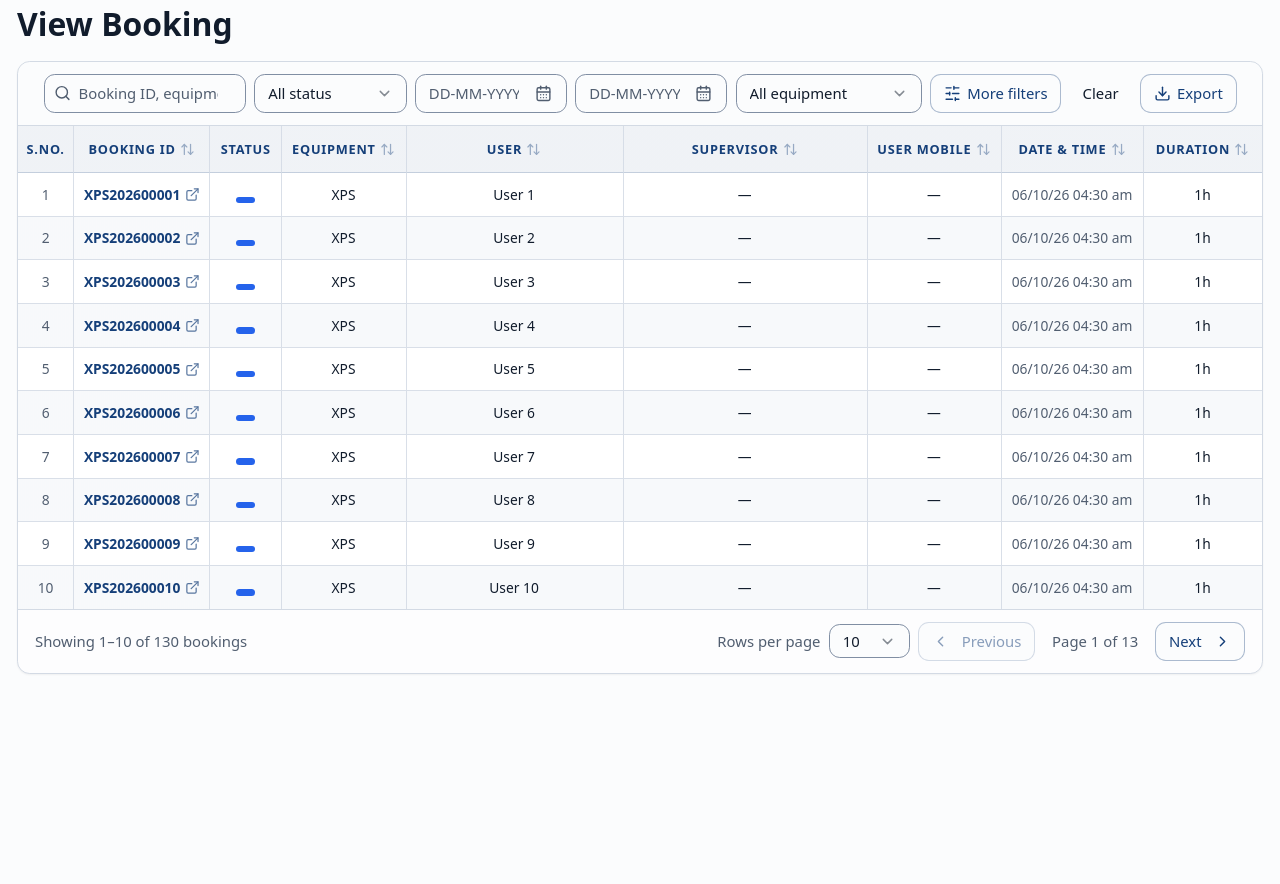
Scenario: View Booking (staff) rows per page › starts at 10, offers 10 / 25 / 50 / 100 / 500 and keeps S.No and the range right for the chosen size
This screenshot has width=1280, height=884.
Expected: the button "XPS202600001" is shown, [84,184,200,205]
Expected: the dropdown named "Rows per page" reads "10", [829,624,910,658]
Click the button "Next" at (1200, 641), box [1155,622,1245,661]
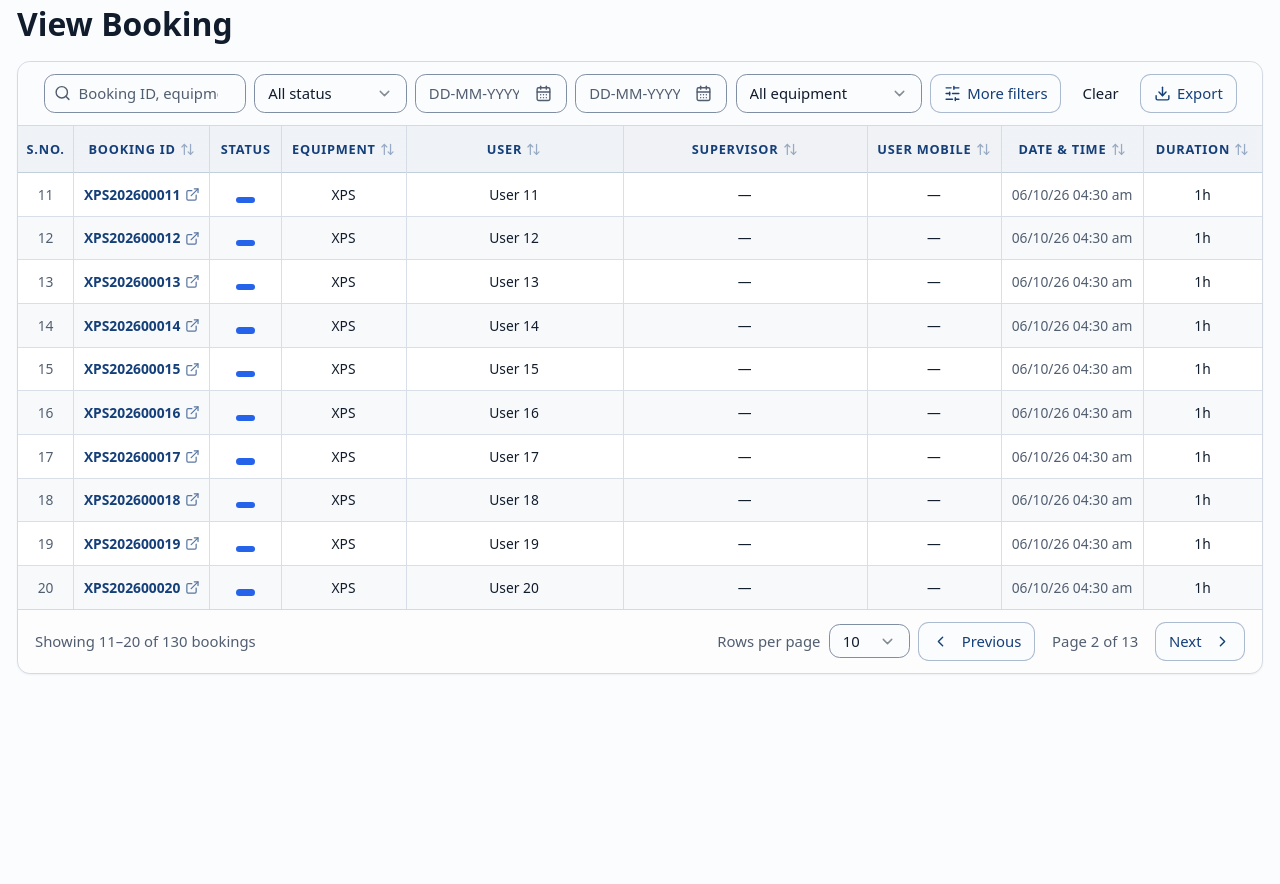
Expected: the button "XPS202600011" is shown, [84,184,200,205]
Press Enter in the dropdown named "Rows per page", box [829,624,910,658]
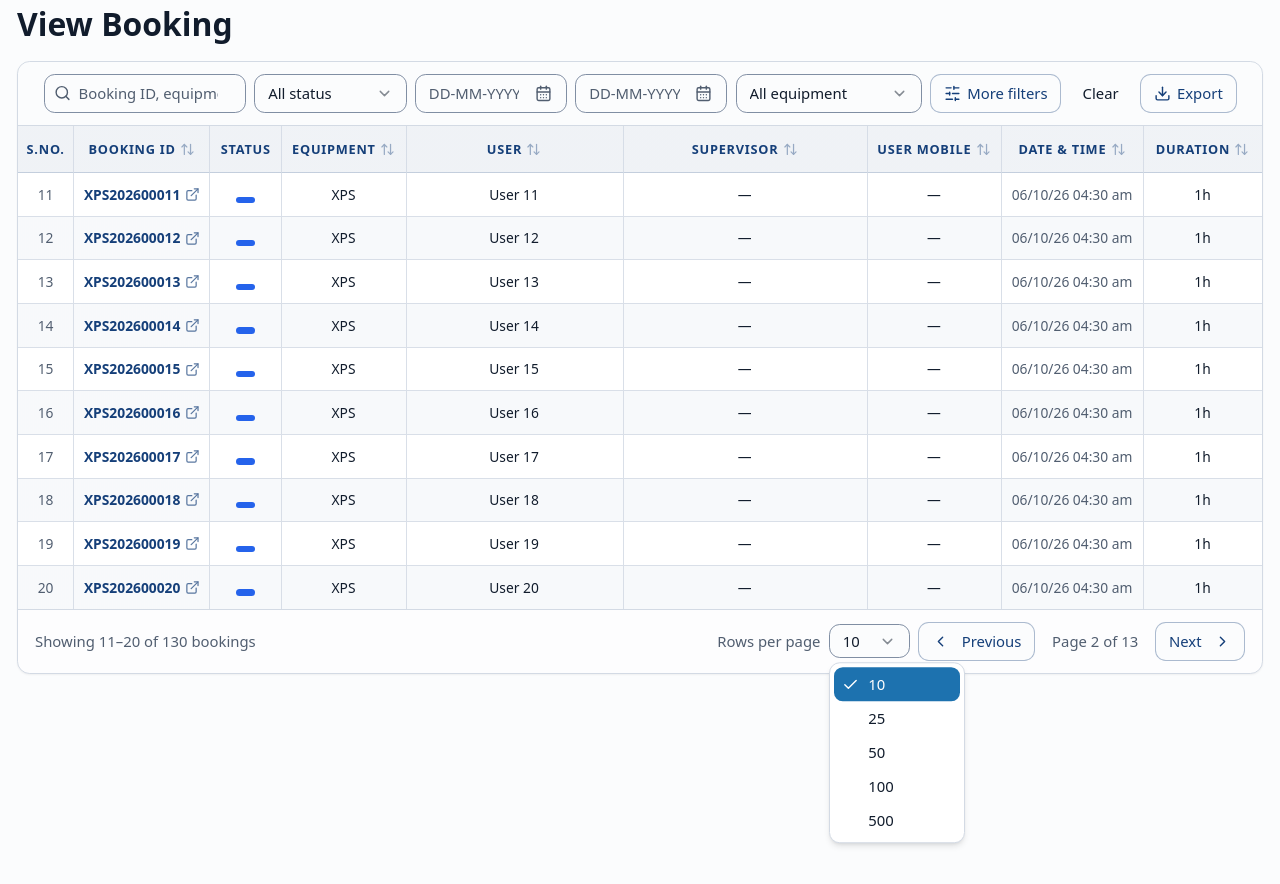
Expected: the options read "10", "25", "50", "100", "500", in this order
Click the option "25" at (877, 718), box [868,708,885,728]
(page scrolled)
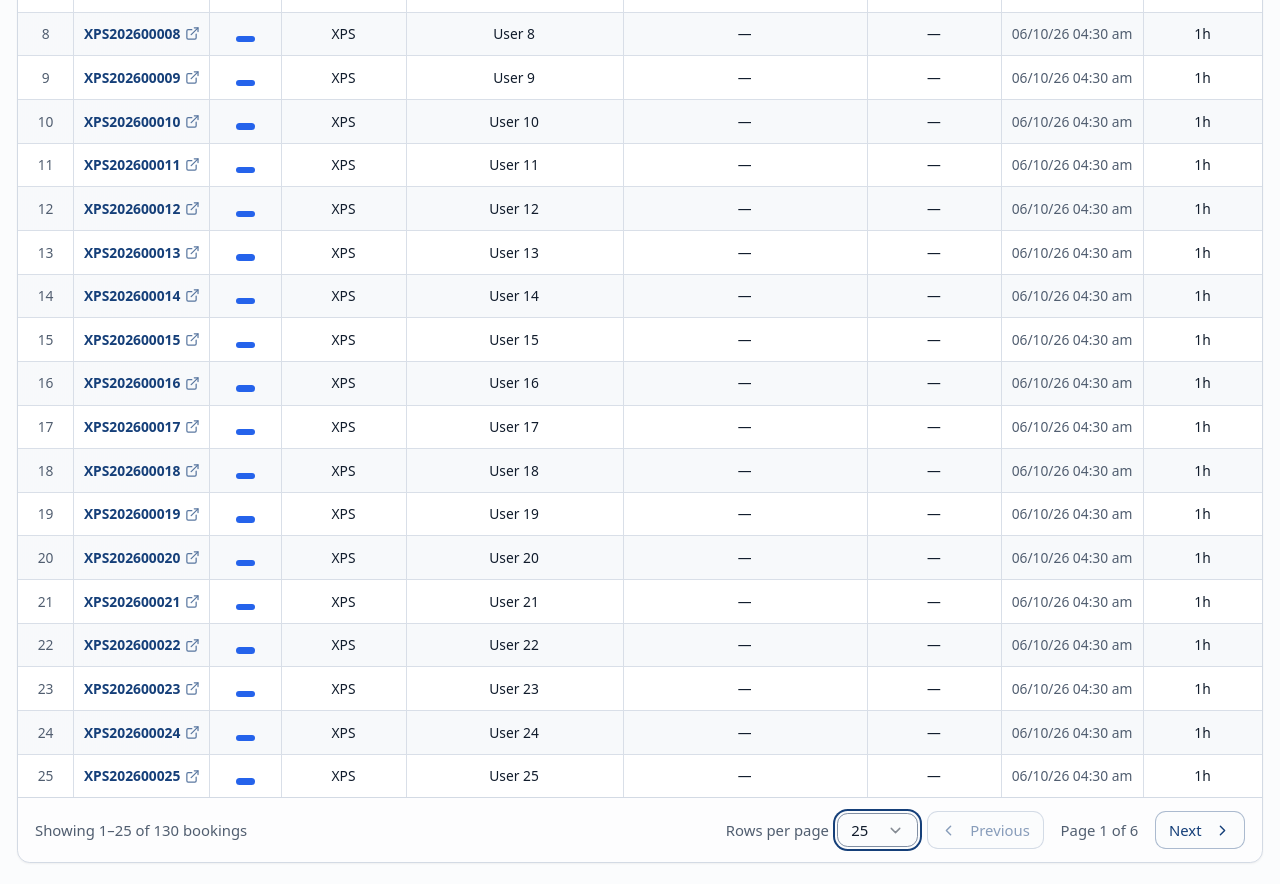
Expected: the button "XPS202600025" is shown, [84,765,200,787]
Expected: the text "Showing 1–25 of 130 bookings" is shown, [35,820,247,841]
Expected: the text "Page 1 of 6" is shown, [1061,820,1138,840]
Click the button "Next" at (1200, 830), box [1155,811,1245,850]
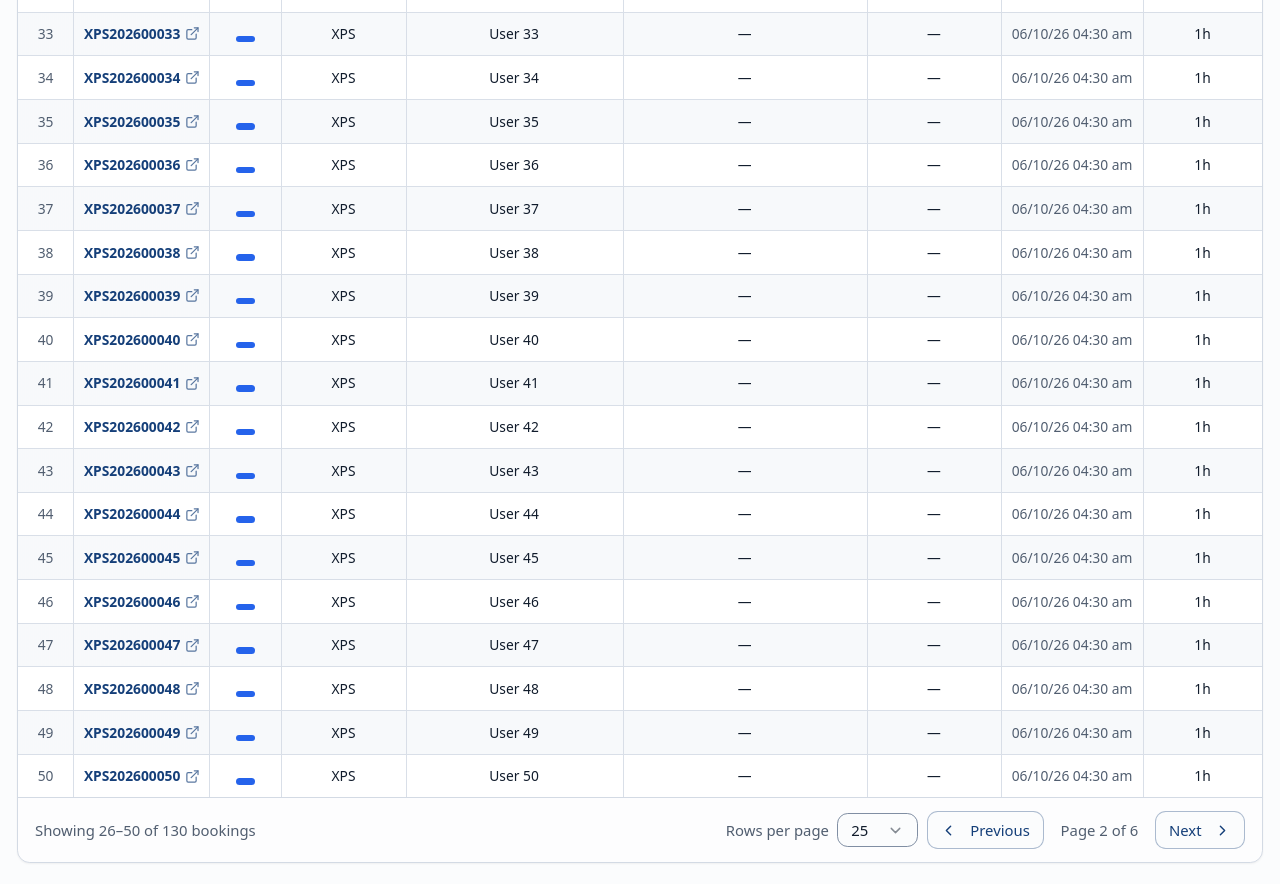
Expected: the text "Showing 26–50 of 130 bookings" is shown, [35,820,256,841]
